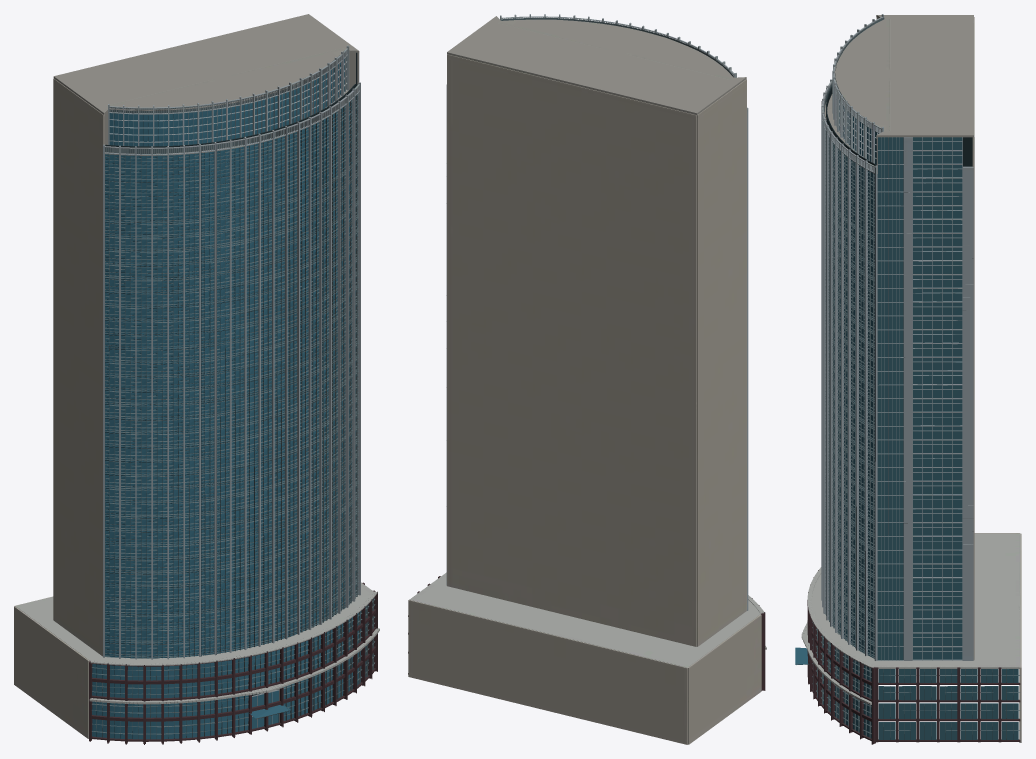
Rendered from light.glb.
The picture shows the model from 3 angles, left to right: view 1: azimuth 30°, elevation 25°; view 2: azimuth 150°, elevation 25°; view 3: azimuth 270°, elevation 25°; orthographic projection. The views are drawn at different scales.
Visible parts, largest first — view 1: Crown_recessed_dark_comb_backing, Front_individual_thick_glazing_closed, Crown_two_levels_comb_fins_and_rails, Entry_recessed_double_height_glazing_and_doors, CLOSURE_HOLD_podium_unseen_rear_and_left, CLOSURE_HOLD_main_roof_and_crown_annulus, Entry_projecting_canopy_thick_glass, Podium_purple_stone_curved_piers_and_spandrels, Podium_continuous_curved_projection_and_coping, NOT_INTERIOR_front_optical_liner, Front_glazing_rebate_and_dark_gaskets; view 2: CLOSURE_HOLD_podium_unseen_rear_and_left, CLOSURE_HOLD_main_roof_and_crown_annulus, Podium_continuous_curved_projection_and_coping, Crown_two_levels_comb_fins_and_rails; view 3: Podium_side_back_observed_long_window_groups, Crown_two_levels_comb_fins_and_rails, Crown_recessed_dark_comb_backing, CLOSURE_HOLD_main_roof_and_crown_annulus, Podium_continuous_curved_projection_and_coping, Podium_purple_stone_curved_piers_and_spandrels, Front_individual_thick_glazing_closed, Entry_recessed_double_height_glazing_and_doors, CLOSURE_HOLD_podium_unseen_rear_and_left, Front_glazing_rebate_and_dark_gaskets, NOT_INTERIOR_front_optical_liner, Entry_projecting_canopy_thick_glass.
Boxes of the visible parts, x1=… form: Crown_recessed_dark_comb_backing: x1=92, y1=51, x2=375, y2=739; Front_individual_thick_glazing_closed: x1=97, y1=57, x2=372, y2=739; Crown_two_levels_comb_fins_and_rails: x1=103, y1=45, x2=360, y2=727; Entry_recessed_double_height_glazing_and_doors: x1=92, y1=80, x2=372, y2=738; CLOSURE_HOLD_podium_unseen_rear_and_left: x1=14, y1=78, x2=104, y2=738; CLOSURE_HOLD_main_roof_and_crown_annulus: x1=53, y1=14, x2=359, y2=155; Entry_projecting_canopy_thick_glass: x1=92, y1=75, x2=368, y2=739; Podium_purple_stone_curved_piers_and_spandrels: x1=89, y1=582, x2=377, y2=744; Podium_continuous_curved_projection_and_coping: x1=15, y1=582, x2=379, y2=704; NOT_INTERIOR_front_optical_liner: x1=96, y1=52, x2=357, y2=738; Front_glazing_rebate_and_dark_gaskets: x1=201, y1=144, x2=216, y2=656; CLOSURE_HOLD_podium_unseen_rear_and_left: x1=408, y1=54, x2=761, y2=744; CLOSURE_HOLD_main_roof_and_crown_annulus: x1=447, y1=16, x2=746, y2=115; Podium_continuous_curved_projection_and_coping: x1=409, y1=572, x2=766, y2=667; Crown_two_levels_comb_fins_and_rails: x1=446, y1=14, x2=748, y2=610; Podium_side_back_observed_long_window_groups: x1=877, y1=137, x2=1018, y2=739; Crown_two_levels_comb_fins_and_rails: x1=821, y1=14, x2=973, y2=660; Crown_recessed_dark_comb_backing: x1=795, y1=18, x2=1020, y2=739; CLOSURE_HOLD_main_roof_and_crown_annulus: x1=824, y1=15, x2=973, y2=173; Podium_continuous_curved_projection_and_coping: x1=801, y1=533, x2=1020, y2=704; Podium_purple_stone_curved_piers_and_spandrels: x1=807, y1=570, x2=1020, y2=744; Front_individual_thick_glazing_closed: x1=823, y1=106, x2=878, y2=723; Entry_recessed_double_height_glazing_and_doors: x1=823, y1=100, x2=876, y2=737; CLOSURE_HOLD_podium_unseen_rear_and_left: x1=877, y1=17, x2=1021, y2=742; Front_glazing_rebate_and_dark_gaskets: x1=821, y1=88, x2=875, y2=655; NOT_INTERIOR_front_optical_liner: x1=826, y1=86, x2=972, y2=716; Entry_projecting_canopy_thick_glass: x1=795, y1=116, x2=876, y2=738.
Bounding box in the file's own units: 48.48 × 100 × 33.84.
18 materials, 5 textured.
